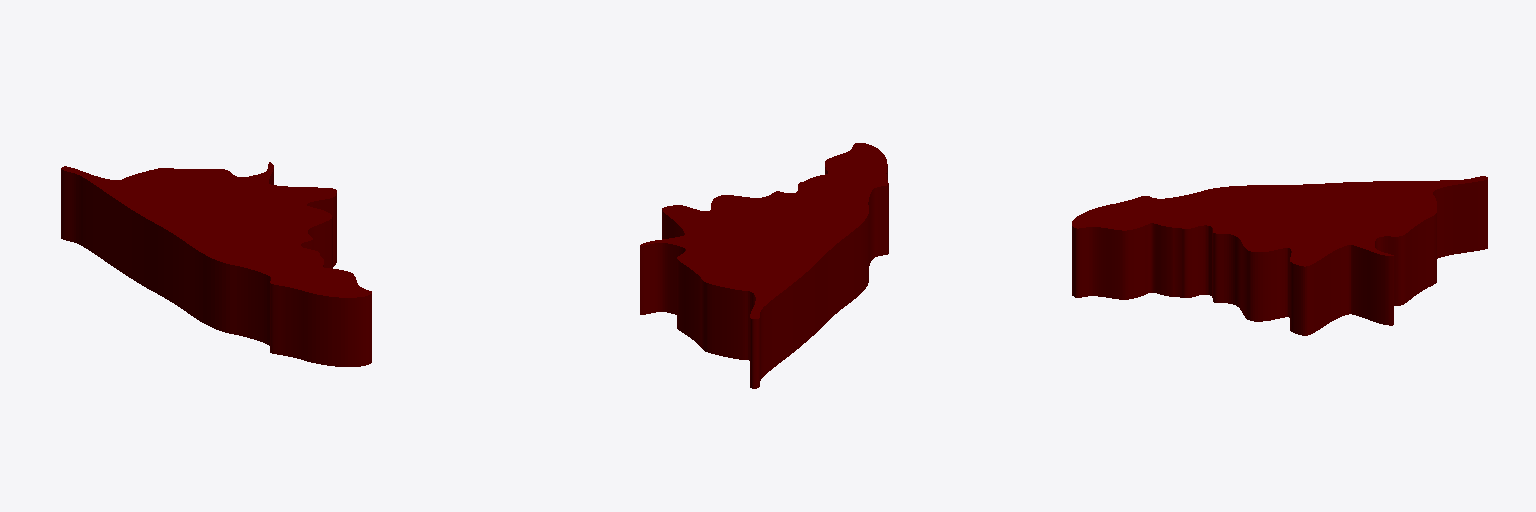
The model's file is South_America_01.obj.
The picture shows the model from 3 angles: view 1: azimuth 30°, elevation 25°; view 2: azimuth 150°, elevation 25°; view 3: azimuth 270°, elevation 25°; orthographic projection.
Visible parts, largest first — view 1: South_America_01_path4216; view 2: South_America_01_path4216; view 3: South_America_01_path4216.
Part boxes in pixels (bbox=[...]): South_America_01_path4216: bbox=[61, 162, 371, 366]; South_America_01_path4216: bbox=[640, 143, 888, 388]; South_America_01_path4216: bbox=[1072, 176, 1487, 335].
Size of the model in its own units: 0.2797 by 0.1 by 0.5451.